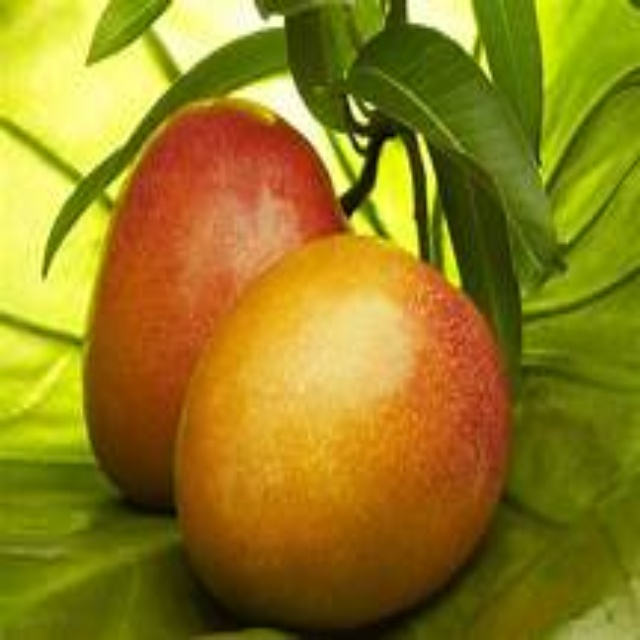mango: (182, 238, 506, 623), (87, 112, 335, 494)
